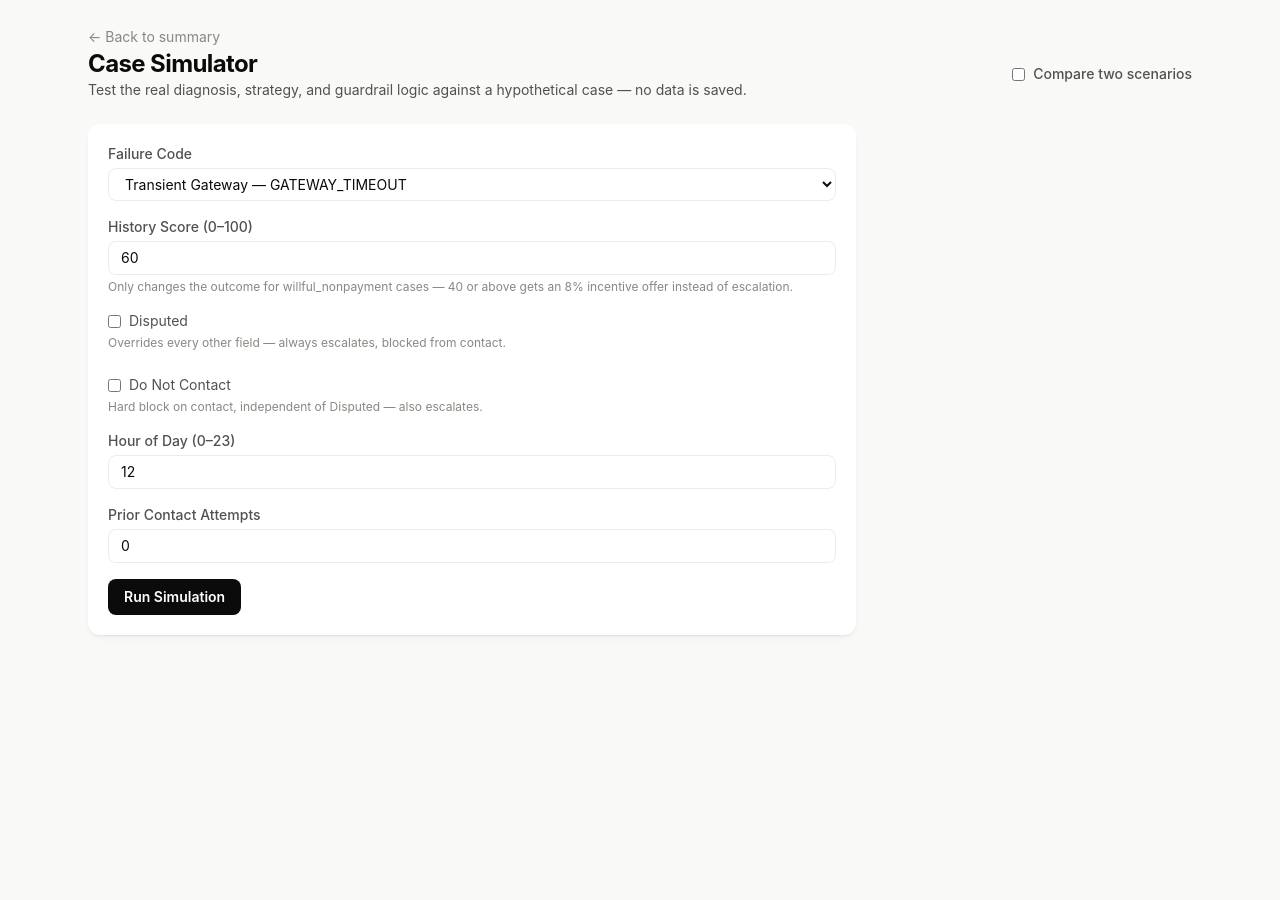
CaseSimulator › Compare mode renders two independent panels, each running its own simulation
Expected: the number of buttons "Run Simulation" is 1, [108,579,241,615]
Click the checkbox labelled "Compare two scenarios" at (1019, 74), box [1012,68,1025,80]
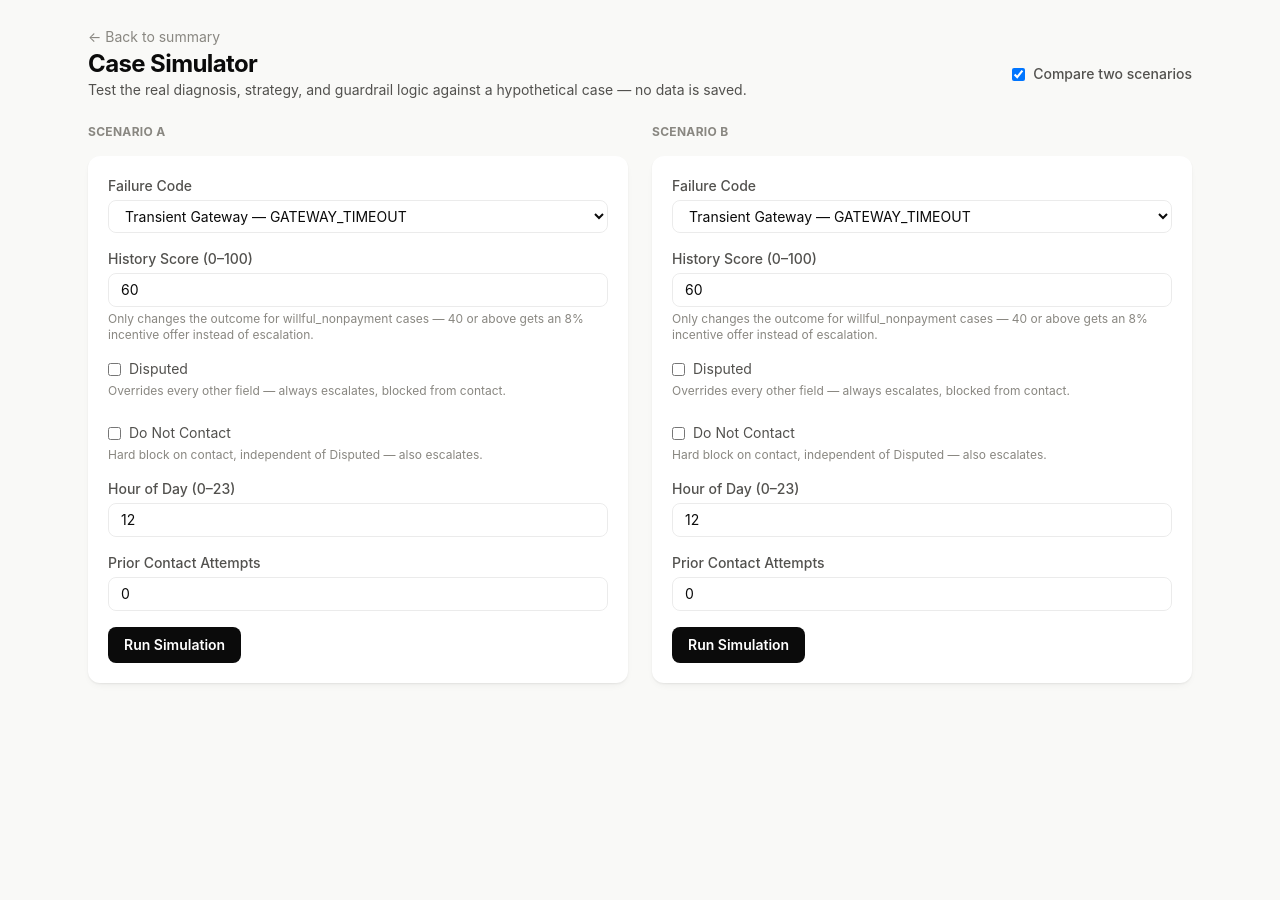
Result: the number of buttons "Run Simulation" is 2
Result: the text "Scenario A" is shown at [88,124,165,139]
Result: the text "Scenario B" is shown at [652,124,728,139]
Note: Running only Scenario A's panel doesn't fire Scenario B's.
Click the 1st button "Run Simulation" at (175, 645), box [108,627,241,663]
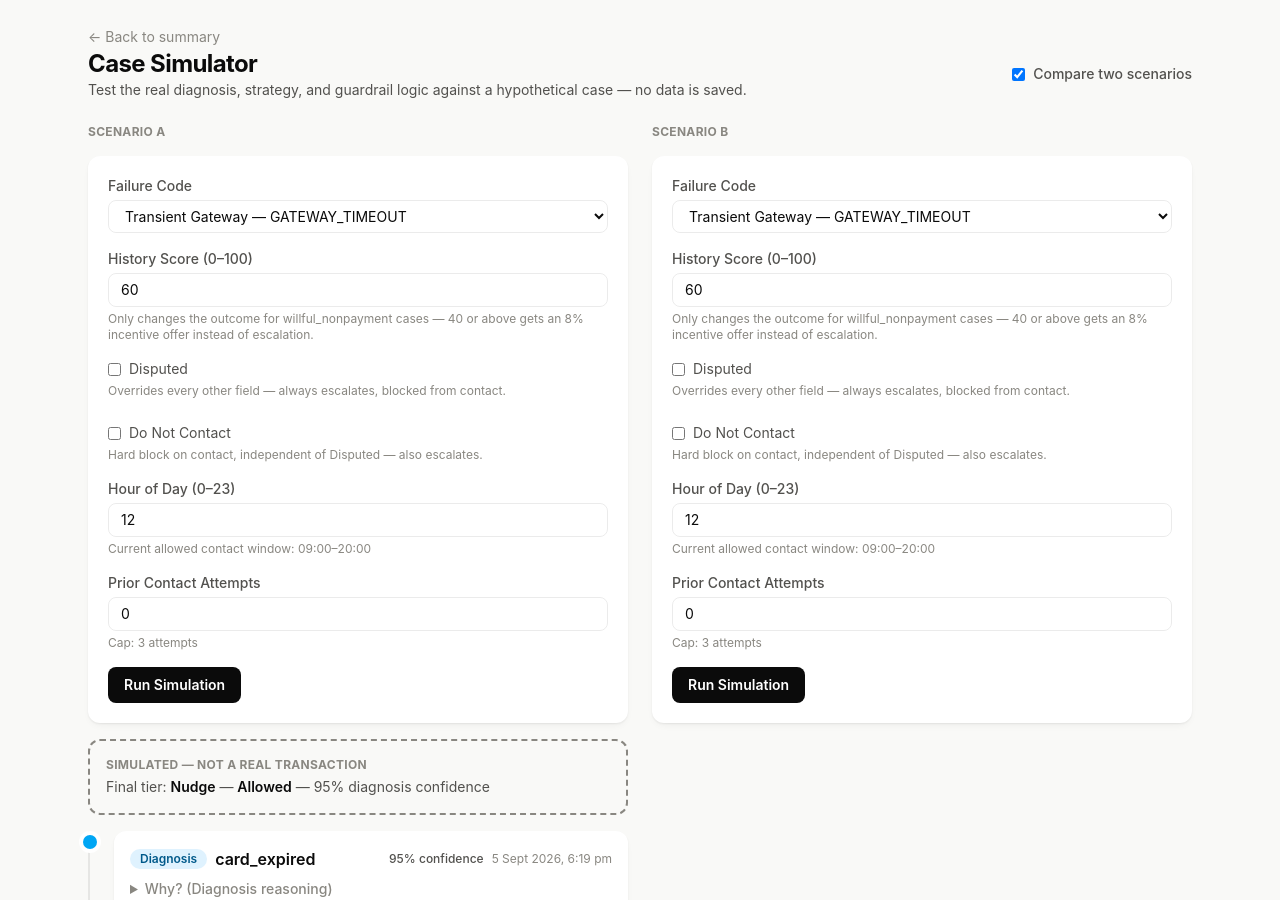
Result: the text "Simulated — not a real transaction" is shown once at [106,757,367,772]
